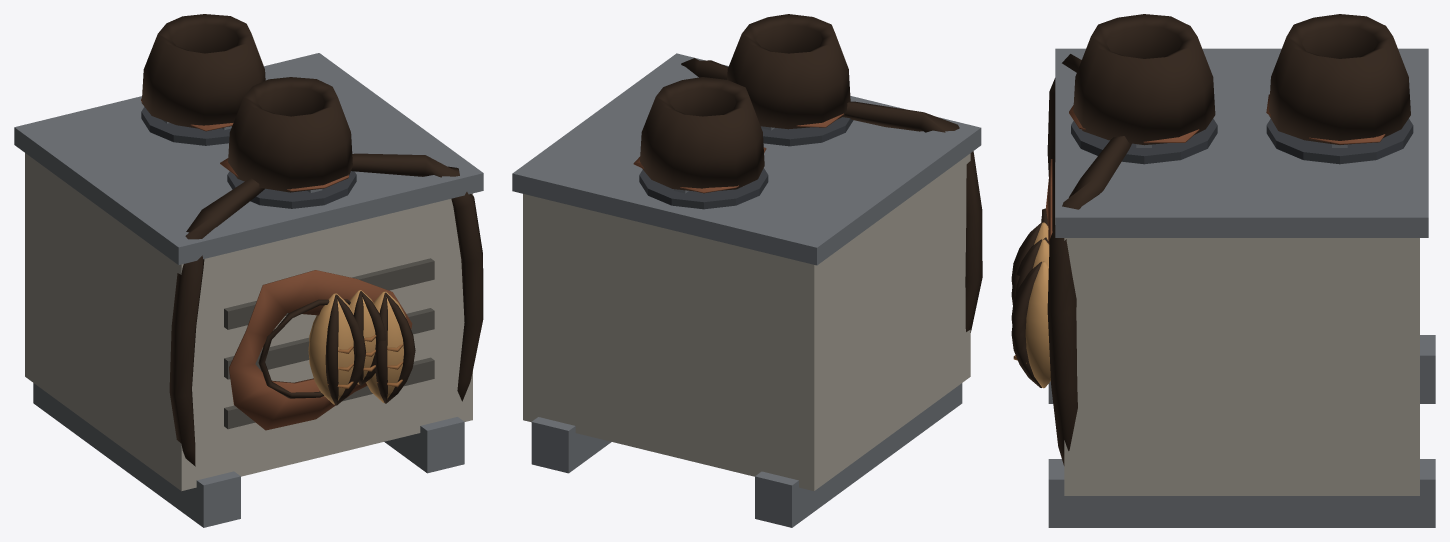
File: prop-rooftop-hvac-infested-3.glb
The picture shows the model from 3 angles, left to right: view 1: azimuth 30°, elevation 25°; view 2: azimuth 150°, elevation 25°; view 3: azimuth 270°, elevation 25°; orthographic projection. The views are drawn at different scales.
Parts seen in each view (by area): view 1: equipment-body, host_growth, top-panel, support-rail, support-rail.001, intake-louvre.002, fan-well, intake-louvre.001, fan-well.001, intake-louvre; view 2: equipment-body, top-panel, host_growth, support-rail, support-rail.001, fan-well.001, fan-well; view 3: equipment-body, host_growth, top-panel, support-rail.001, fan-well.001, fan-well, support-rail.
Boxes of the visible parts, bbox=[...] form: equipment-body: bbox=[25, 153, 472, 491]; host_growth: bbox=[141, 14, 483, 466]; top-panel: bbox=[14, 53, 483, 264]; support-rail: bbox=[33, 383, 240, 527]; support-rail.001: bbox=[384, 417, 464, 473]; intake-louvre.002: bbox=[224, 258, 434, 329]; fan-well: bbox=[227, 171, 356, 208]; intake-louvre.001: bbox=[224, 308, 434, 379]; fan-well.001: bbox=[141, 107, 230, 145]; intake-louvre: bbox=[224, 357, 434, 429]; equipment-body: bbox=[523, 153, 970, 490]; top-panel: bbox=[512, 53, 981, 265]; host_growth: bbox=[633, 14, 982, 332]; support-rail: bbox=[755, 383, 962, 527]; support-rail.001: bbox=[531, 417, 611, 473]; fan-well.001: bbox=[639, 168, 768, 209]; fan-well: bbox=[761, 117, 853, 146]; equipment-body: bbox=[1064, 238, 1419, 495]; host_growth: bbox=[1011, 14, 1410, 465]; top-panel: bbox=[1055, 48, 1428, 237]; support-rail.001: bbox=[1048, 459, 1435, 527]; fan-well.001: bbox=[1266, 118, 1413, 164]; fan-well: bbox=[1071, 118, 1217, 164]; support-rail: bbox=[1048, 335, 1435, 403].
Size of the model in its own units: 0.9158 by 1.04 by 0.9536.
